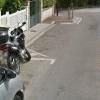Motorcycle: (3, 22, 34, 89)
